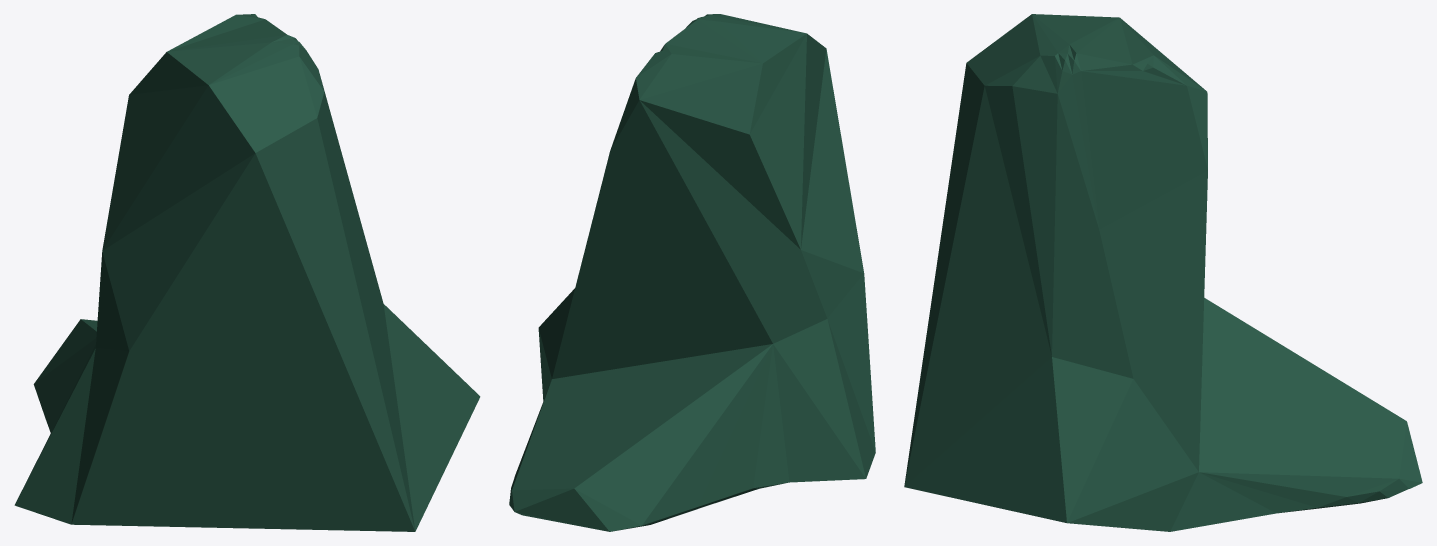
File: Rock02.FBX
The picture shows the model from 3 angles, left to right: view 1: azimuth 30°, elevation 25°; view 2: azimuth 150°, elevation 25°; view 3: azimuth 270°, elevation 25°; orthographic projection. The views are drawn at different scales.
Parts seen in each view (by area): view 1: Capsule002; view 2: Capsule002; view 3: Capsule002.
Part boxes in pixels (left/top/right/bottom): Capsule002: left=14, top=14, right=480, bottom=531; Capsule002: left=509, top=14, right=875, bottom=531; Capsule002: left=904, top=14, right=1422, bottom=531.
Bounding box in the file's own units: 84.72 × 88.09 × 95.25.
